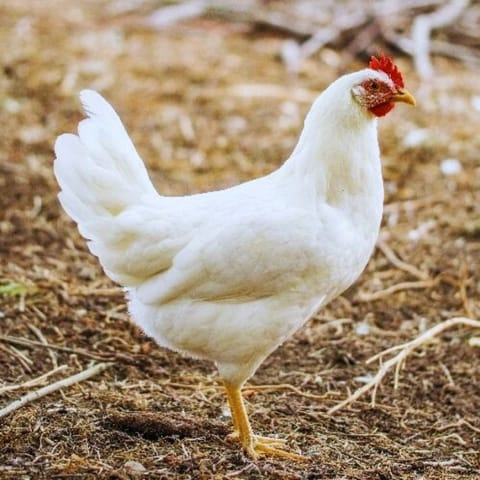Healthy: (48, 47, 417, 464)
